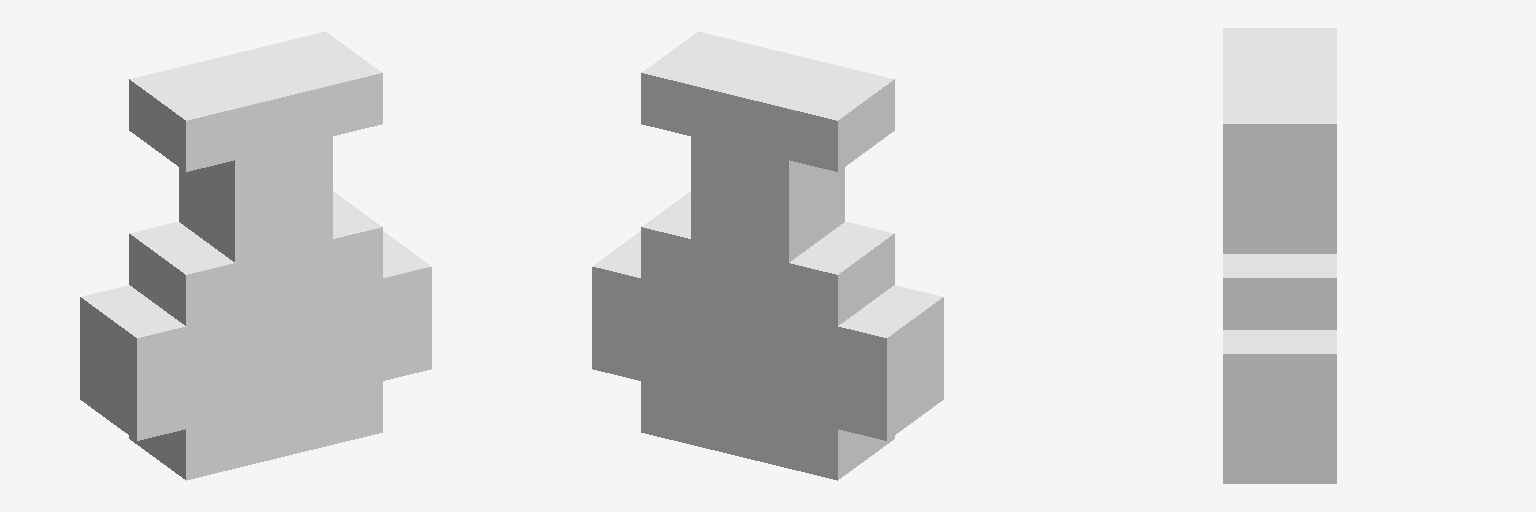
The model's file is bag4.obj.
3 renders of one model, left to right at view 1: azimuth 30°, elevation 25°; view 2: azimuth 150°, elevation 25°; view 3: azimuth 270°, elevation 25°, orthographic.
Parts seen in each view (by area): view 1: object 1; view 2: object 1; view 3: object 1.
Boxes of the visible parts, box(x1,y1,x2,y2) form: object 1: box(80, 31, 431, 480); object 1: box(592, 31, 943, 480); object 1: box(1223, 28, 1336, 483).
Size of the model in its own units: 0.6 by 0.7 by 0.2.